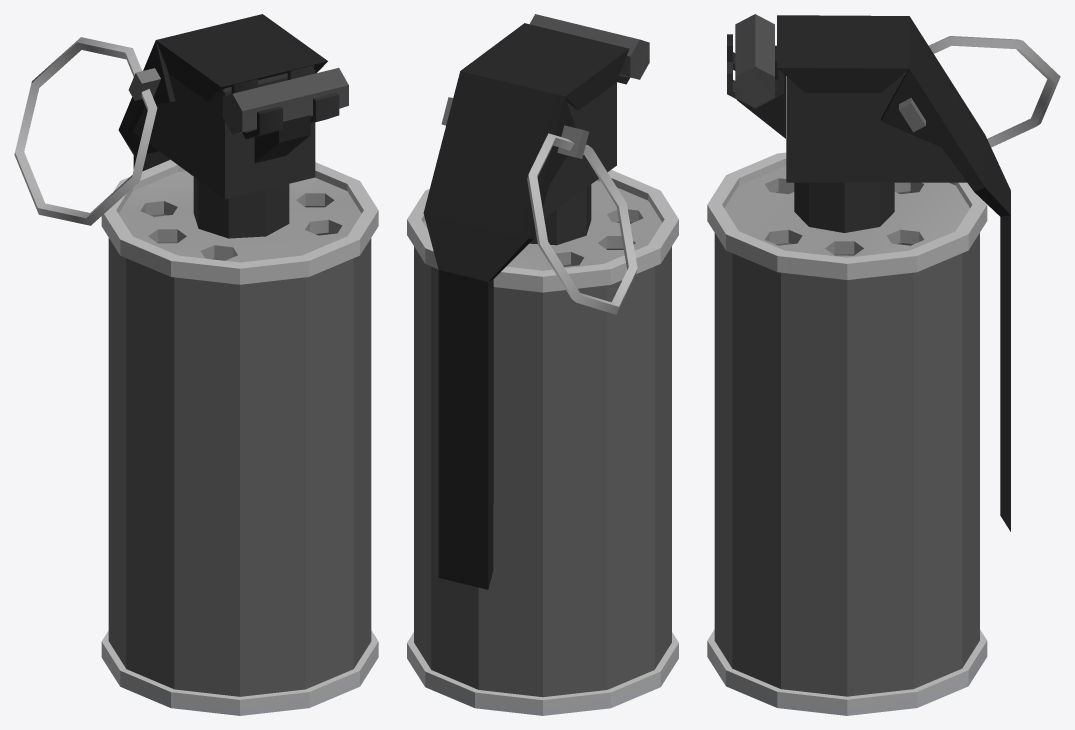
File: Smoke3.FBX
3 views of the same model, side by side, from view 1: azimuth 30°, elevation 25°; view 2: azimuth 150°, elevation 25°; view 3: azimuth 270°, elevation 25° (orthographic). The views are drawn at different scales.
Parts seen in each view (by area): view 1: Cylinder031, Sphere019, Object050, Object052; view 2: Cylinder031, Sphere019, Object050, Object052; view 3: Cylinder031, Sphere019, Object050.
Boxes of the visible parts, left/top/right/bottom form: Cylinder031: left=101, top=159, right=378, bottom=715; Sphere019: left=118, top=14, right=348, bottom=238; Object050: left=14, top=37, right=157, bottom=225; Object052: left=128, top=68, right=160, bottom=100; Cylinder031: left=407, top=169, right=678, bottom=715; Sphere019: left=423, top=14, right=649, bottom=589; Object050: left=527, top=133, right=637, bottom=314; Object052: left=441, top=97, right=588, bottom=158; Cylinder031: left=707, top=152, right=987, bottom=715; Sphere019: left=727, top=14, right=1010, bottom=531; Object050: left=929, top=36, right=1060, bottom=147.
Size of the model in its own units: 0.1352 by 0.3033 by 0.1575.
